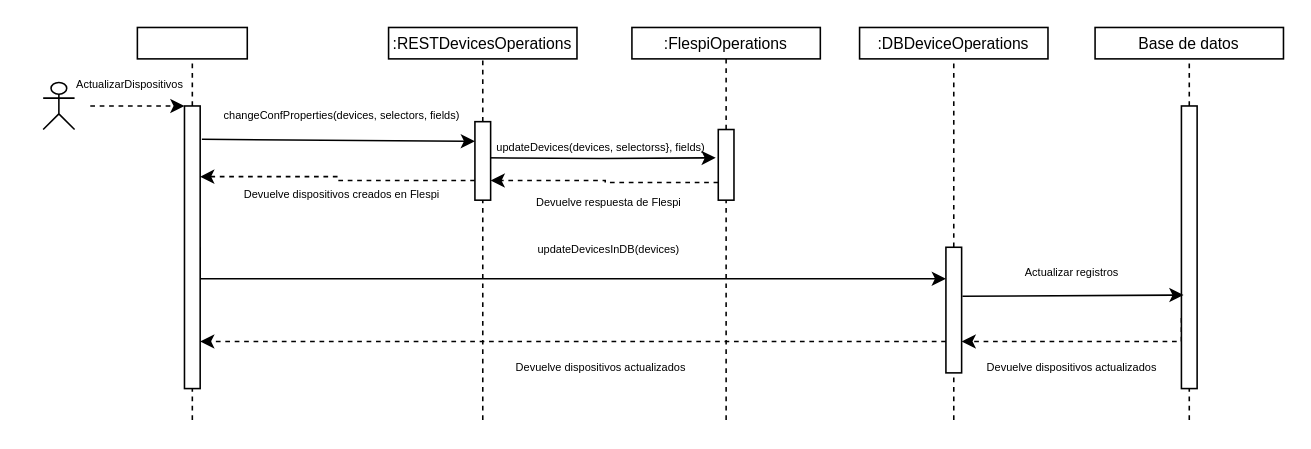
Image size: 1311x449. Some labels were removed from this diagram. Each missing label, with the centre of its shape:
RESTful API: (x=191, y=42)
Usuario: (x=58, y=105)
